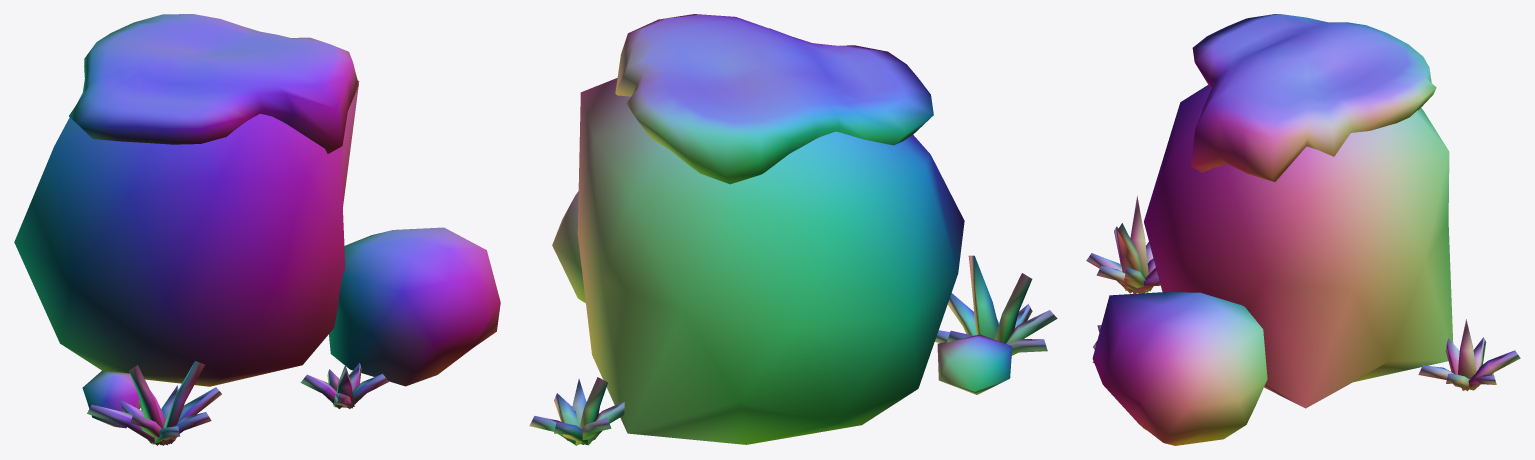
File: SM_Rock_March_AshBoulder_A.fbx
3 views of the same model, side by side, from view 1: azimuth 30°, elevation 25°; view 2: azimuth 150°, elevation 25°; view 3: azimuth 270°, elevation 25° (orthographic). The views are drawn at different scales.
Parts seen in each view (by area): view 1: SM_Rock_March_AshBoulder_A; view 2: SM_Rock_March_AshBoulder_A; view 3: SM_Rock_March_AshBoulder_A.
Part boxes in pixels (x1=…): SM_Rock_March_AshBoulder_A: x1=14, y1=14, x2=500, y2=445; SM_Rock_March_AshBoulder_A: x1=529, y1=14, x2=1057, y2=445; SM_Rock_March_AshBoulder_A: x1=1086, y1=14, x2=1520, y2=445.
Bounding box in the file's own units: 1.55 × 1.06 × 1.4.
